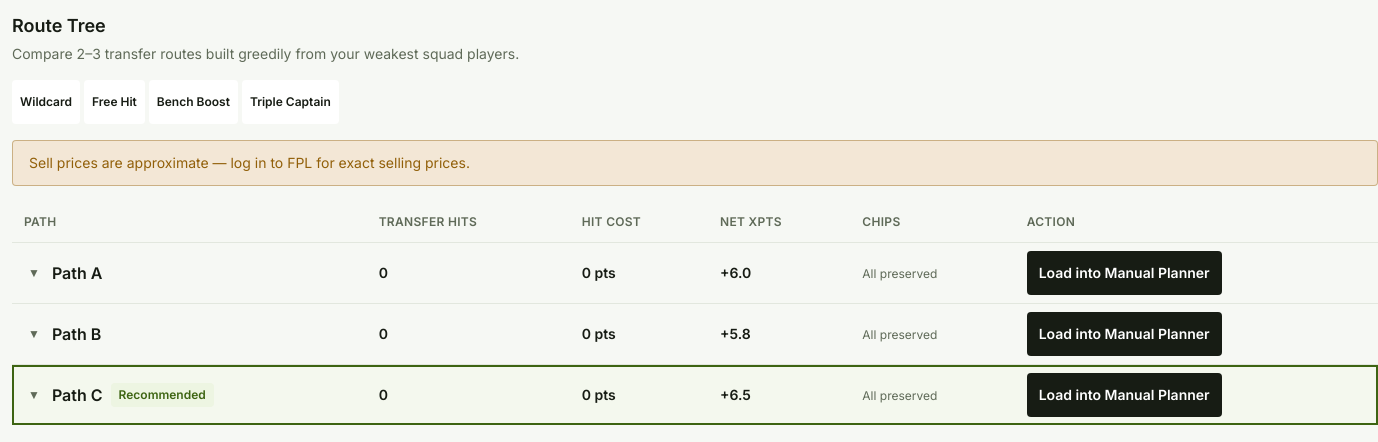
Test: bridge — TRT-05 › confirm flow: loadManualPlan returns plan with transfers, shows inline confirm
This screenshot has width=1378, height=442.
Click the button with test id "path-load-0" at (1124, 273), box [1027,251,1222,295]
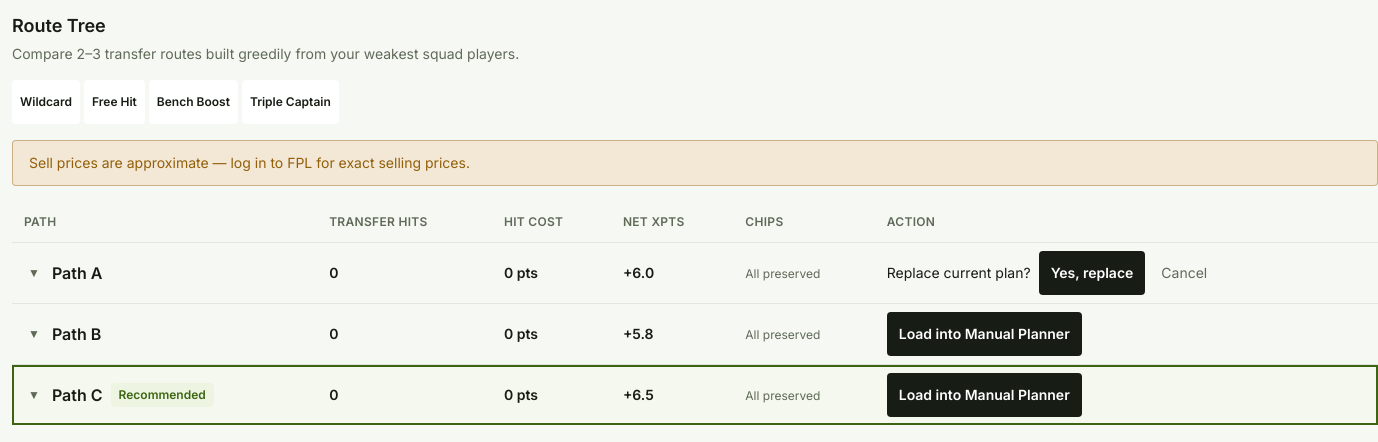
Expected: the element with test id "path-confirm-0" is shown, [887,251,1215,295]
